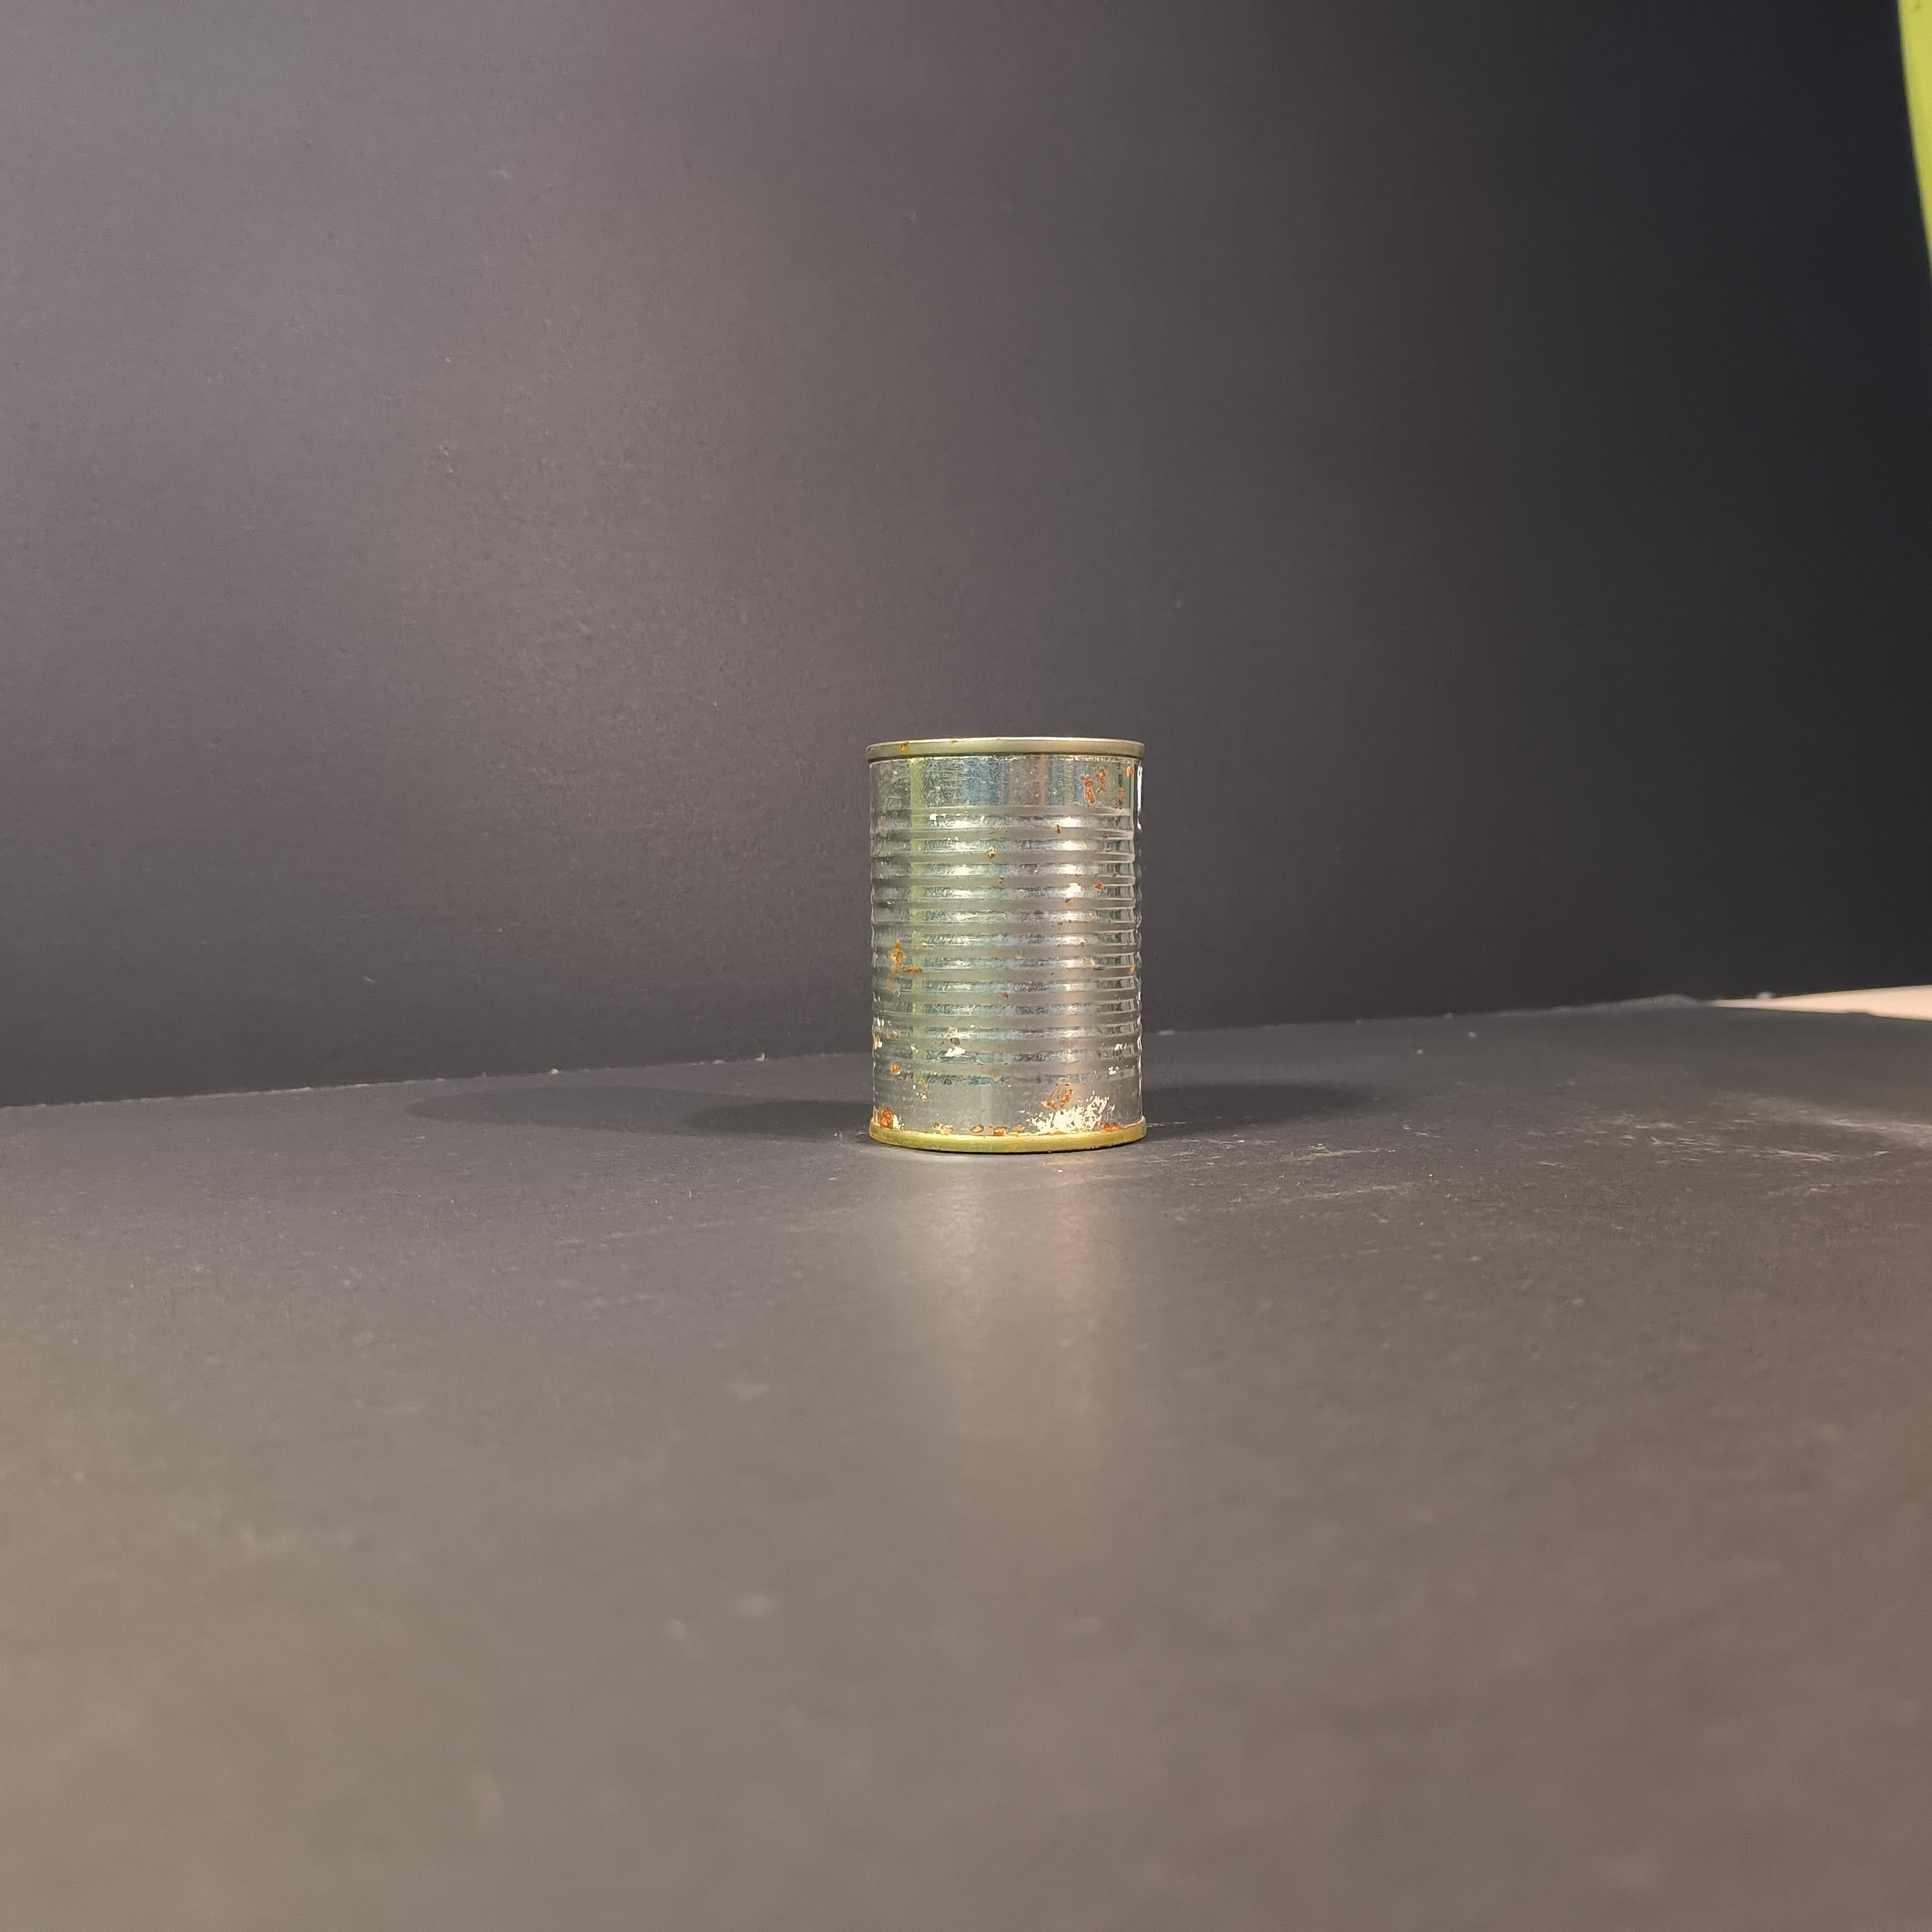Rusted: (863, 718, 1161, 1161)
